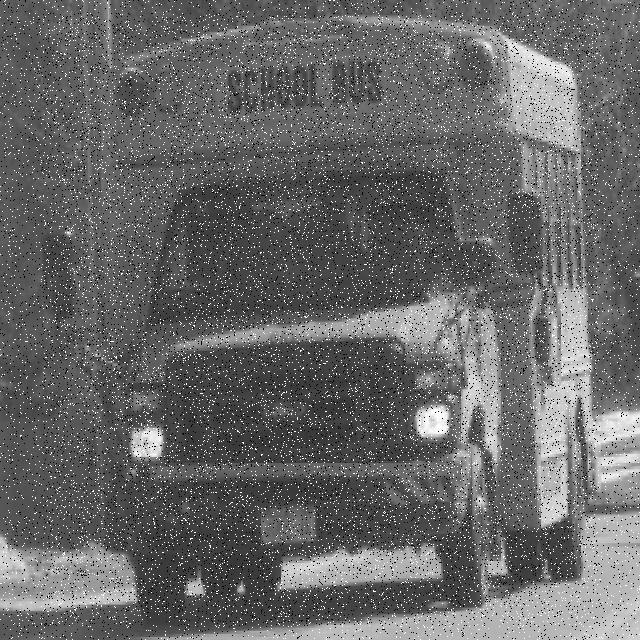Bus- Small: (43, 16, 598, 626)
